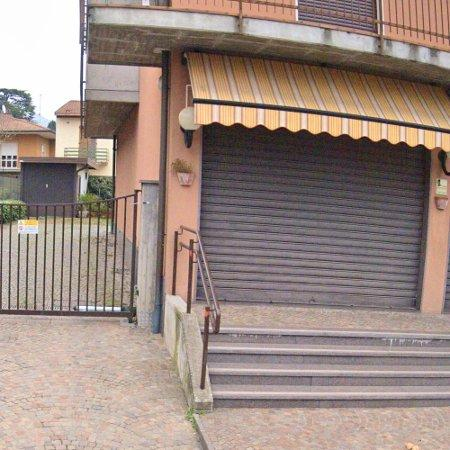stairs: (209, 329, 450, 408)
